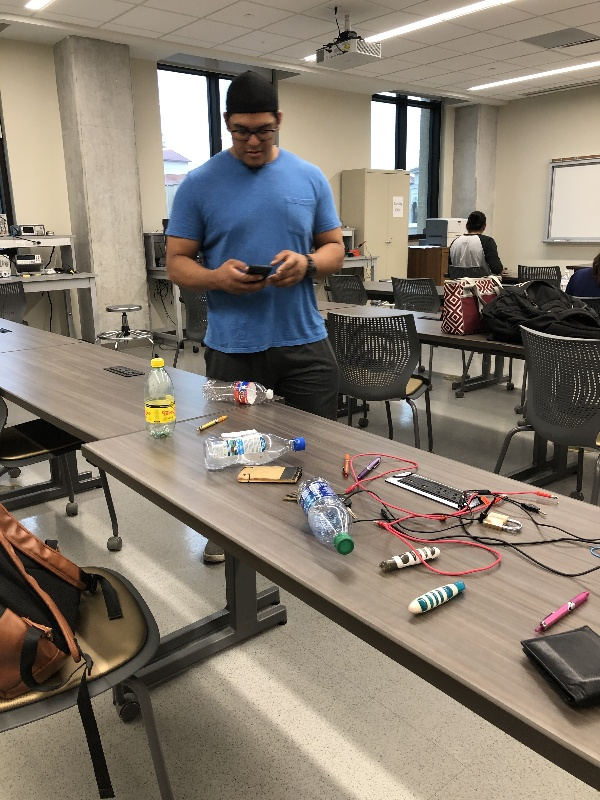bottle: (291, 475, 364, 558), (198, 429, 308, 478), (140, 354, 181, 440), (197, 376, 282, 407)
